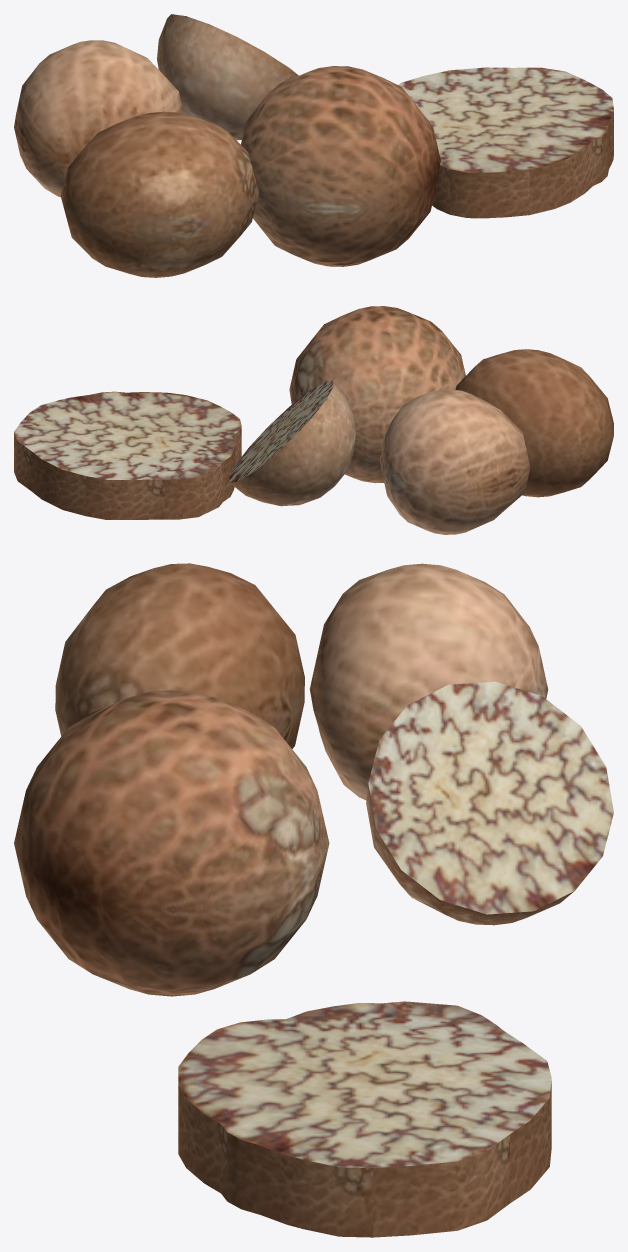
The model's file is binlang.FBX.
3 renders of one model, top to bottom at view 1: azimuth 30°, elevation 25°; view 2: azimuth 150°, elevation 25°; view 3: azimuth 270°, elevation 25°, orthographic. The views are drawn at different scales.
Visible parts, largest first — view 1: Sphere004, Sphere002, Line001, Sphere003, Sphere001; view 2: Line001, Sphere003, Sphere004, Sphere002, Sphere001; view 3: Sphere004, Line001, Sphere001, Sphere003, Sphere002.
Boxes of the visible parts, x1,y1,x2,y2 form: Sphere004: (241, 66, 440, 266); Sphere002: (60, 111, 259, 277); Line001: (398, 67, 613, 218); Sphere003: (14, 40, 183, 197); Sphere001: (157, 14, 298, 140); Line001: (14, 391, 241, 519); Sphere003: (380, 389, 530, 534); Sphere004: (289, 306, 465, 483); Sphere002: (455, 349, 613, 497); Sphere001: (229, 380, 355, 506); Sphere004: (14, 690, 329, 996); Line001: (178, 1001, 551, 1237); Sphere001: (366, 681, 613, 925); Sphere003: (309, 563, 548, 799); Sphere002: (55, 563, 304, 748).
Size of the model in its own units: 78.26 by 24.63 by 45.01.
